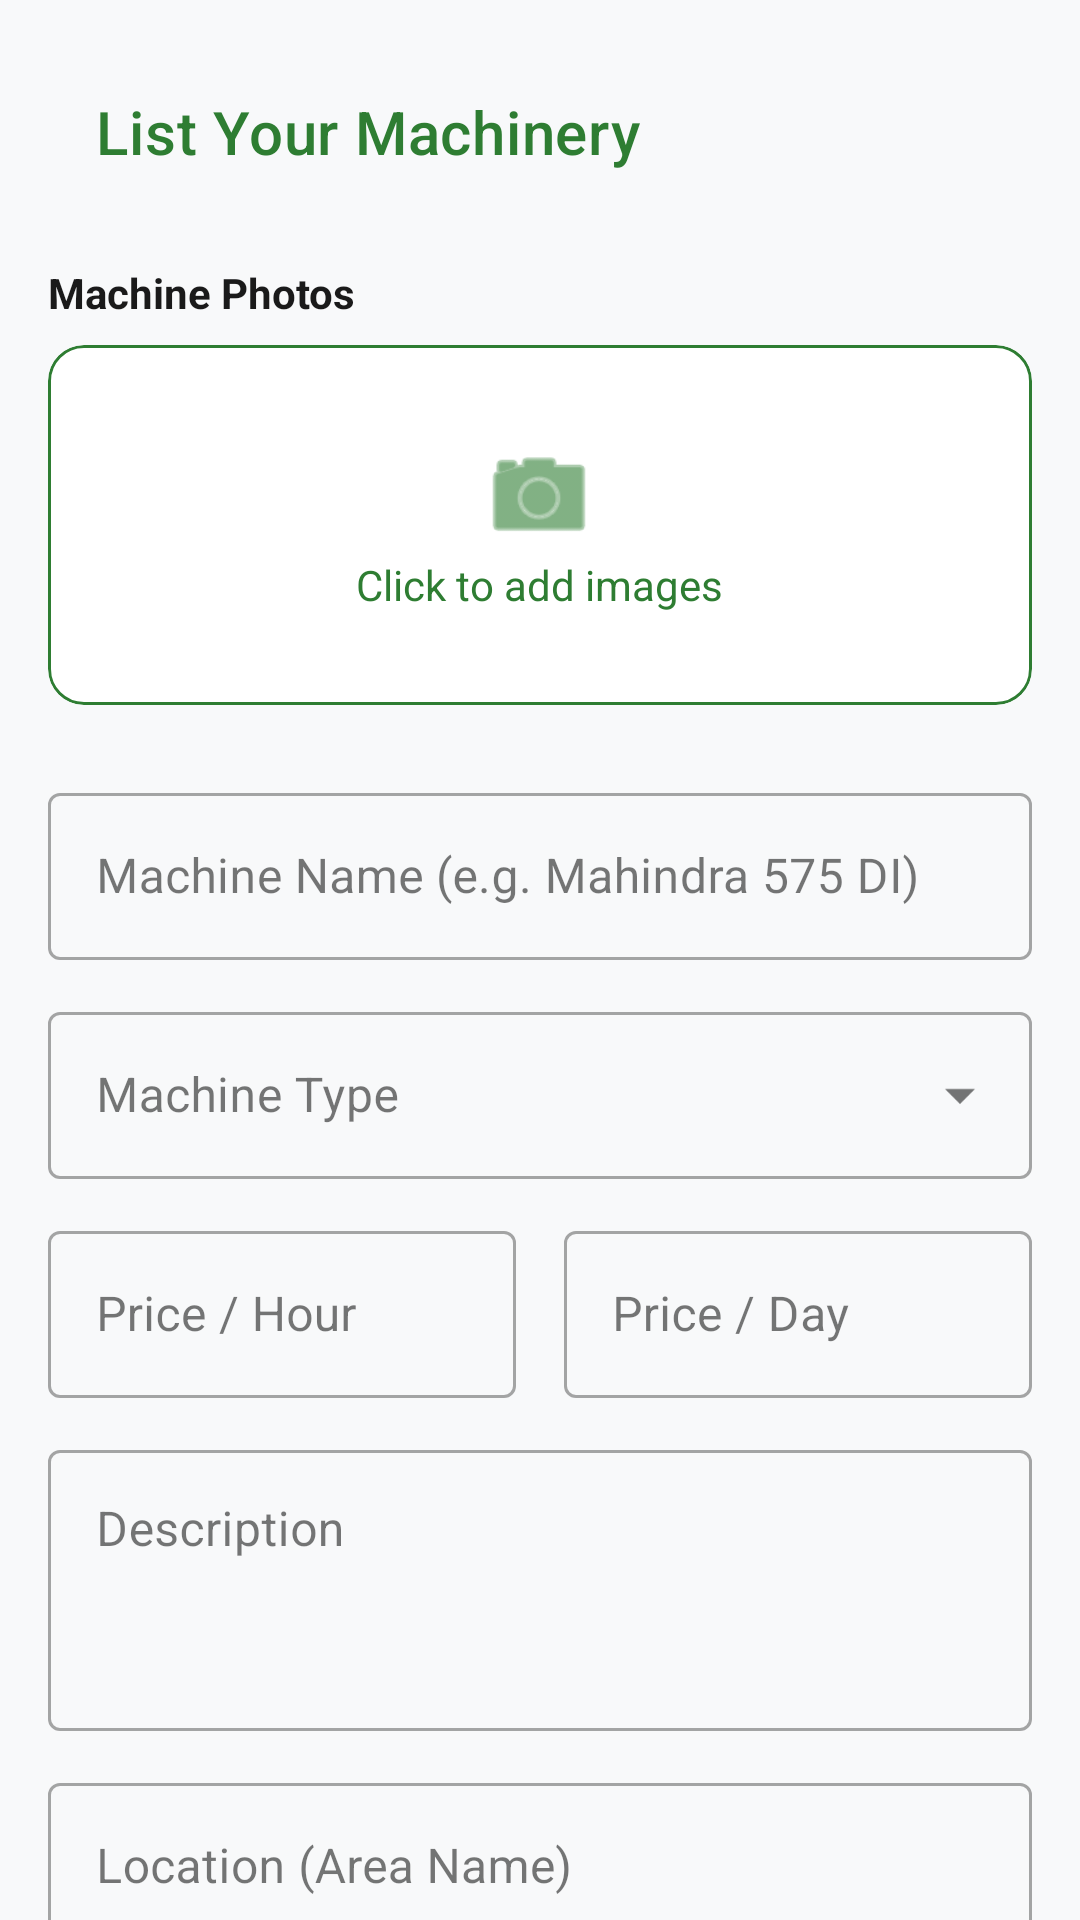

Icon bounding boxes for this 1080×1920 phone screenshot, format box=[x1, y1, x2, y2]:
camera: box=[493, 457, 585, 531]
